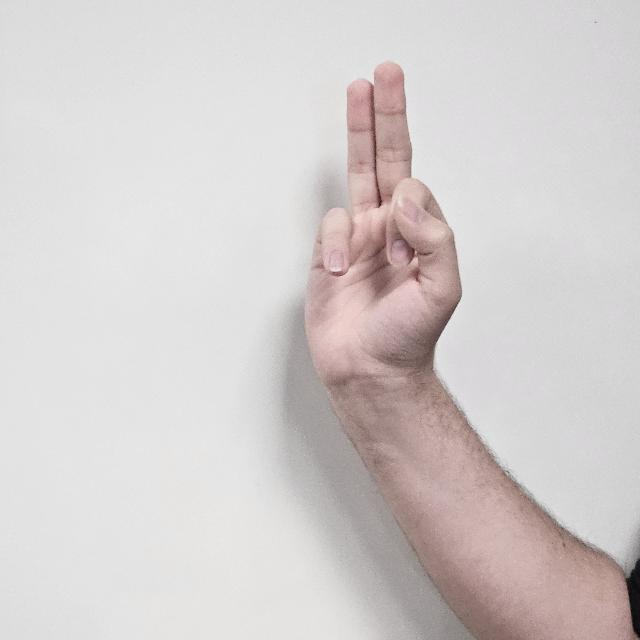R: (304, 60, 462, 420)
